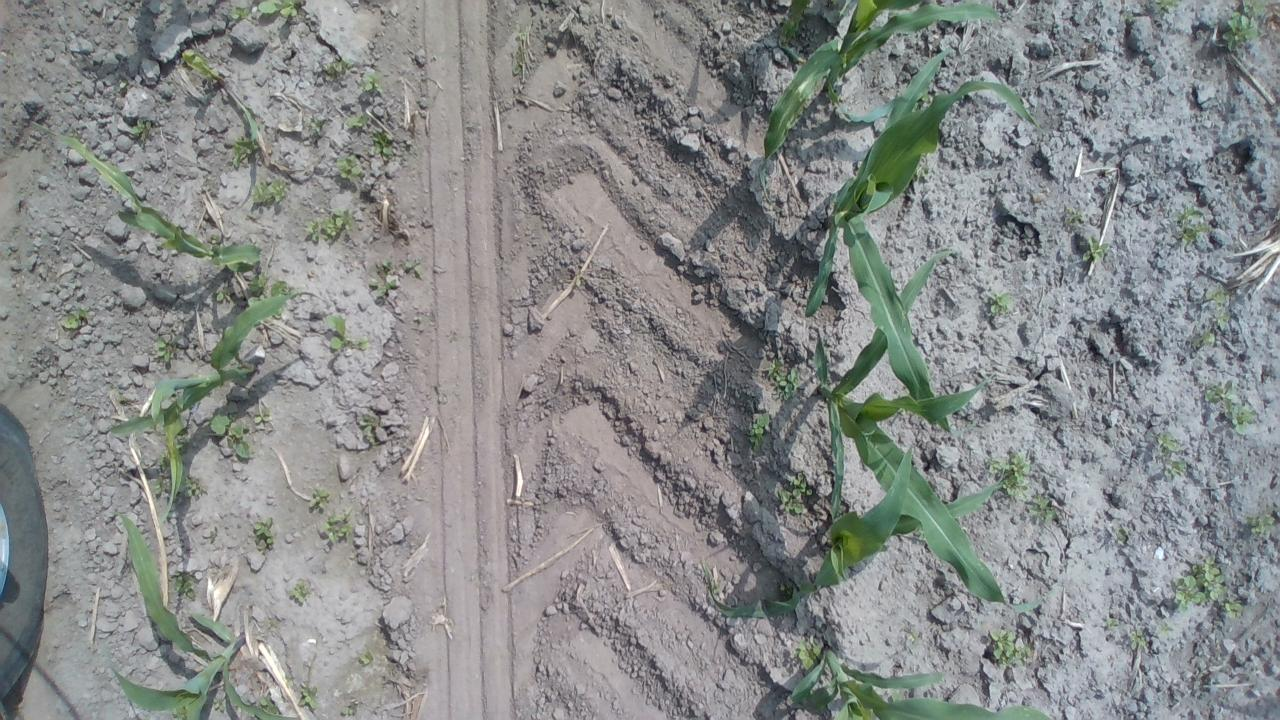Maize: (798, 51, 1048, 434), (789, 243, 1008, 613), (754, 0, 1001, 207), (98, 283, 310, 512), (716, 469, 1031, 618), (100, 509, 264, 720), (54, 137, 270, 284), (742, 645, 1051, 720)
Weeds: (1168, 556, 1242, 625), (1198, 378, 1256, 437), (985, 446, 1033, 509), (366, 252, 426, 302), (980, 624, 1042, 670), (1214, 6, 1261, 64), (1196, 282, 1230, 356), (208, 412, 254, 464), (1150, 428, 1186, 490), (766, 473, 812, 519), (763, 352, 801, 406), (790, 635, 834, 681), (322, 314, 372, 354), (306, 207, 359, 244), (184, 52, 231, 93), (1172, 204, 1210, 248), (1022, 494, 1065, 532), (230, 0, 311, 18), (228, 132, 266, 170), (249, 178, 296, 208), (318, 509, 358, 544), (1242, 508, 1278, 546), (240, 270, 288, 298), (250, 515, 278, 556), (740, 412, 766, 456), (1080, 235, 1110, 273), (985, 288, 1017, 322), (511, 30, 532, 81), (356, 406, 383, 444), (154, 332, 183, 367), (334, 152, 364, 184), (57, 307, 92, 332), (175, 476, 208, 502), (304, 483, 331, 514), (372, 129, 398, 161), (356, 69, 384, 98), (289, 578, 316, 608), (1128, 624, 1153, 654), (340, 112, 370, 136), (256, 691, 282, 718), (127, 120, 158, 142), (298, 684, 320, 715), (326, 52, 350, 80), (174, 572, 198, 600), (208, 282, 235, 306), (1061, 202, 1084, 225), (305, 118, 325, 142), (252, 402, 272, 426), (1155, 0, 1183, 16), (340, 698, 361, 716), (1102, 616, 1124, 632), (358, 651, 378, 668), (1158, 620, 1174, 638), (210, 696, 228, 712), (1115, 528, 1129, 540)
